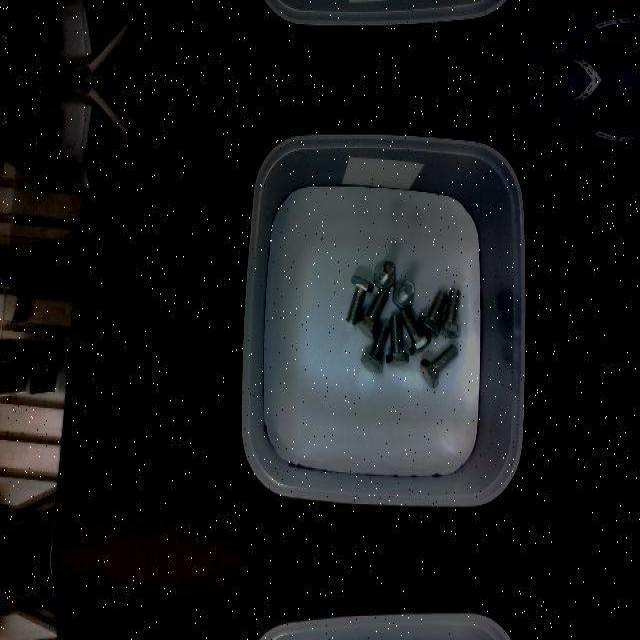screw: (421, 344, 458, 386), (355, 288, 387, 336), (417, 290, 448, 338), (399, 306, 431, 352), (361, 323, 390, 373), (346, 273, 373, 323), (386, 315, 410, 365), (438, 288, 460, 338), (374, 259, 395, 289), (394, 280, 415, 308)
